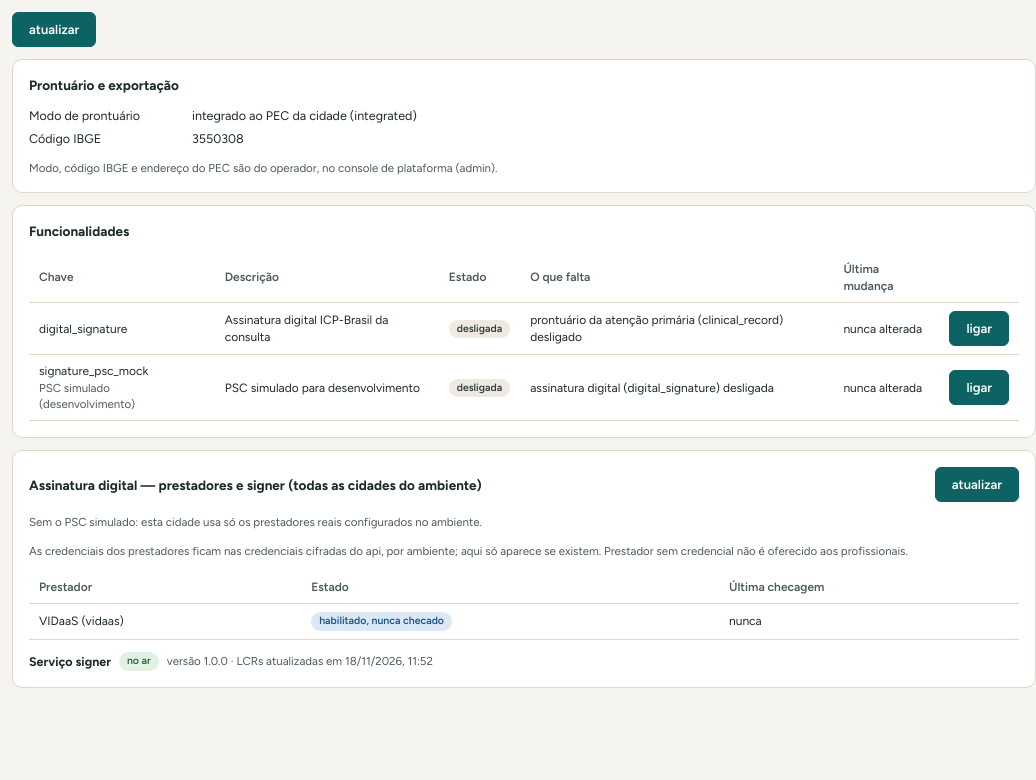
Test: FeaturesTab — assinatura digital (módulo 19b) › ligar signature_psc_mock por dois cliques: após o refetch a aba avisa
Expected: the text "signature_psc_mock" is shown, [39, 364, 148, 378]
Click the button "ligar" in the row of "signature_psc_mock": (979, 388) [949, 370, 1009, 406]
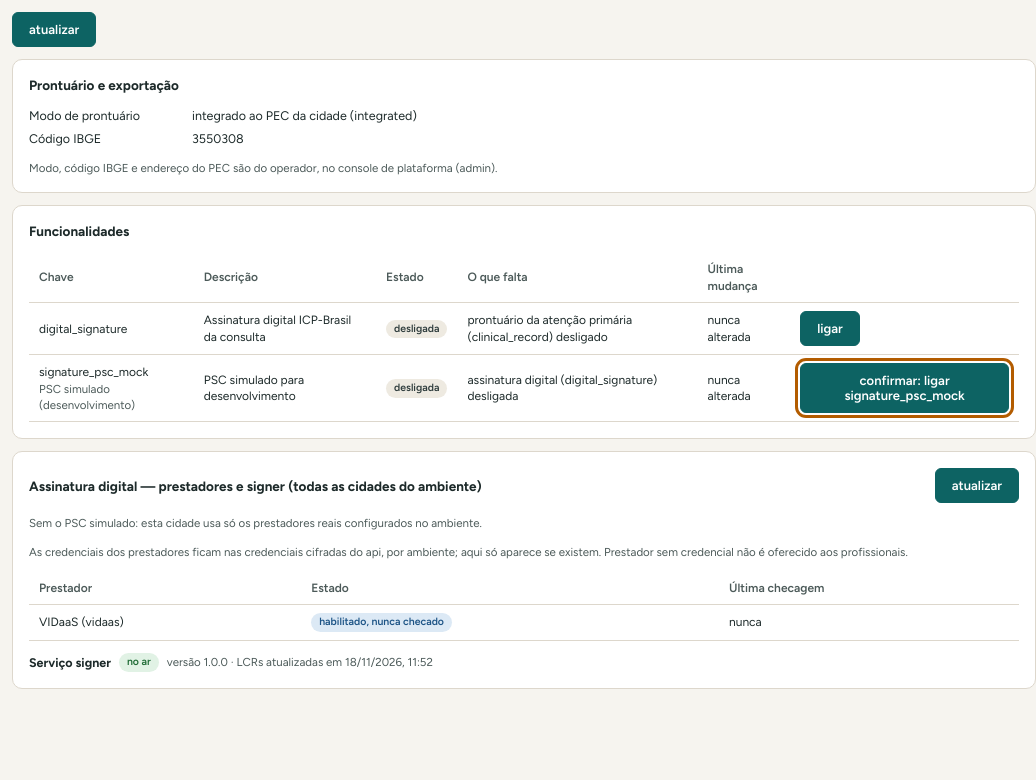
Click the button "confirmar: ligar signature_psc_mock": (905, 388) [800, 364, 1009, 414]
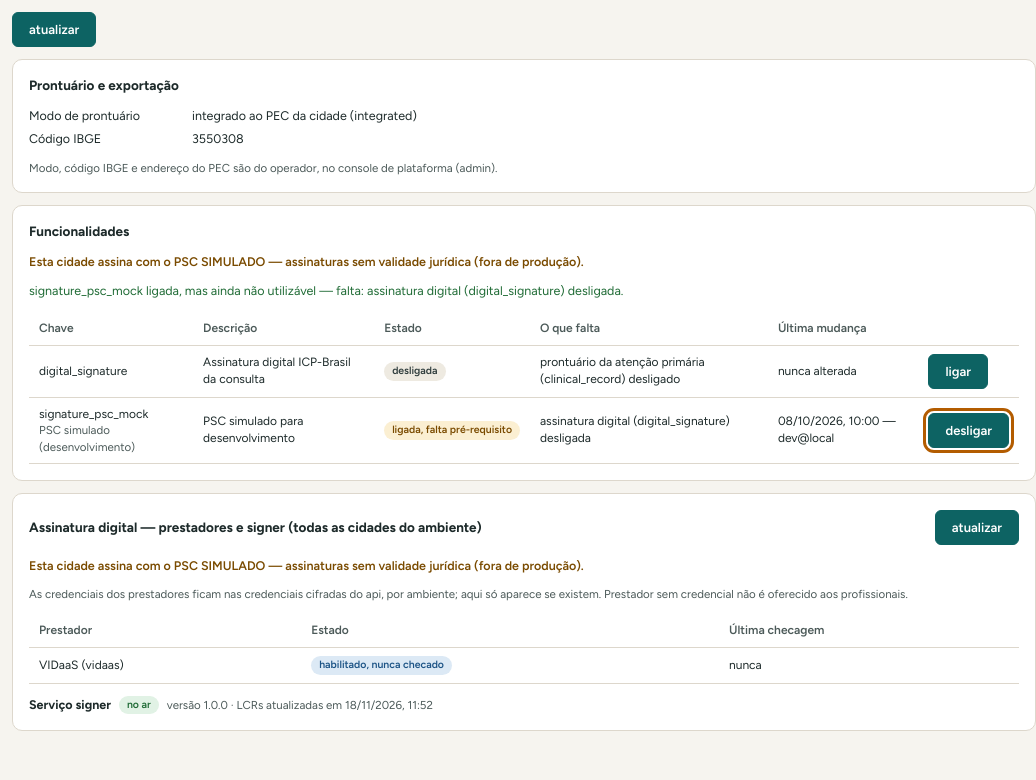
Expected: the text named "modo do PSC" shows "Esta cidade assina com o PSC SIMULADO — assinaturas sem validade jurídica (fora de produção).", [29, 254, 584, 269]
